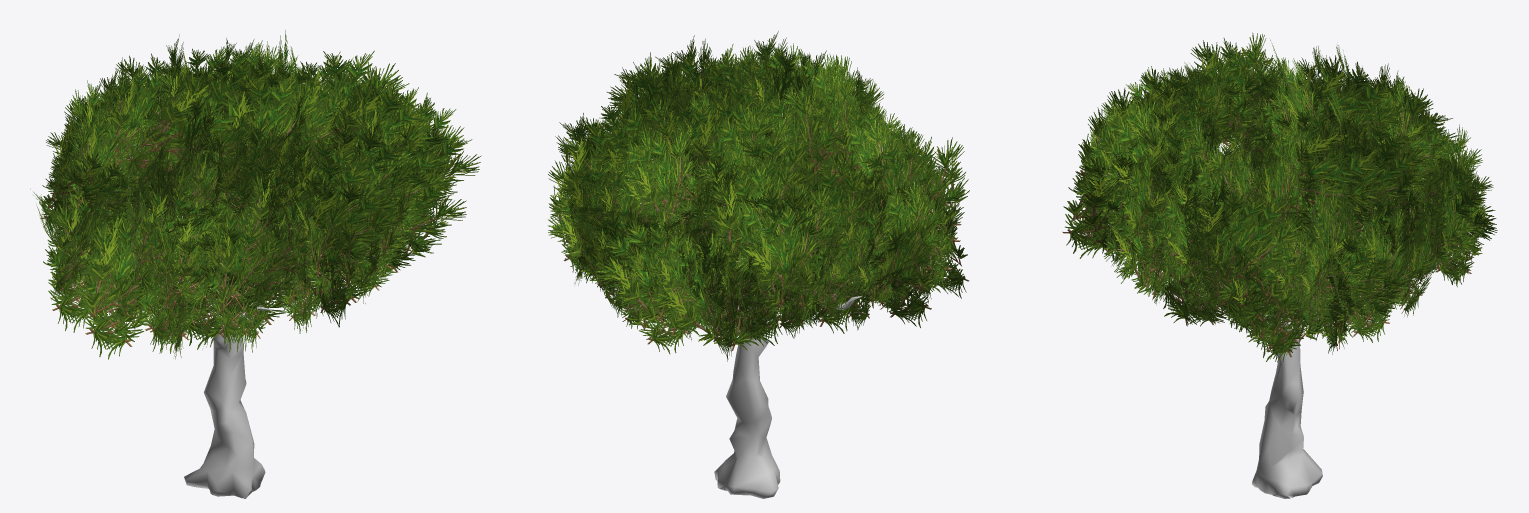
Rendered from PinusPinea.fbx.
The picture shows the model from 3 angles, left to right: view 1: azimuth 30°, elevation 25°; view 2: azimuth 150°, elevation 25°; view 3: azimuth 270°, elevation 25°; orthographic projection. The views are drawn at different scales.
Visible parts, largest first — view 1: PinusPinea_LOD0; view 2: PinusPinea_LOD0; view 3: PinusPinea_LOD0.
Part boxes in pixels (x1=…): PinusPinea_LOD0: x1=30, y1=30, x2=481, y2=498; PinusPinea_LOD0: x1=548, y1=31, x2=969, y2=498; PinusPinea_LOD0: x1=1062, y1=32, x2=1497, y2=498.
Size of what is drawn, in the model's own units: 42.17 by 42.42 by 41.84.
